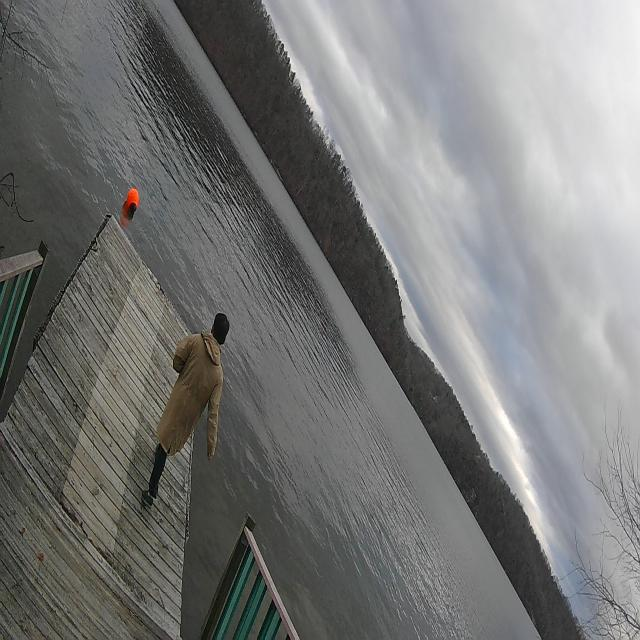Buoy: (125, 183, 140, 218)
